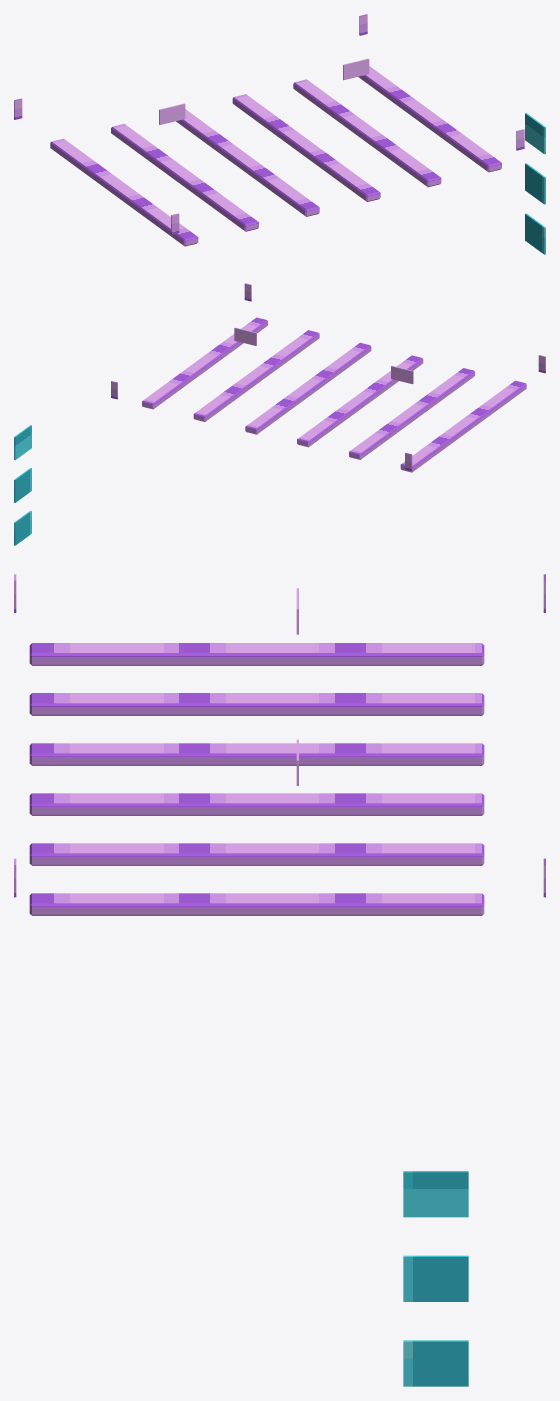
File: tent_4_emission.obj
The picture shows the model from 3 angles, top to bottom: view 1: azimuth 30°, elevation 25°; view 2: azimuth 150°, elevation 25°; view 3: azimuth 270°, elevation 25°; orthographic projection. The views are drawn at different scales.
Visible parts, largest first — view 1: model; view 2: model; view 3: model.
Part boxes in pixels (x1,y1,x2,y2): model: [14, 14, 545, 254]; model: [14, 283, 545, 545]; model: [14, 574, 545, 1386].
Size of the model in its own units: 1.91 by 1.01 by 1.07.
